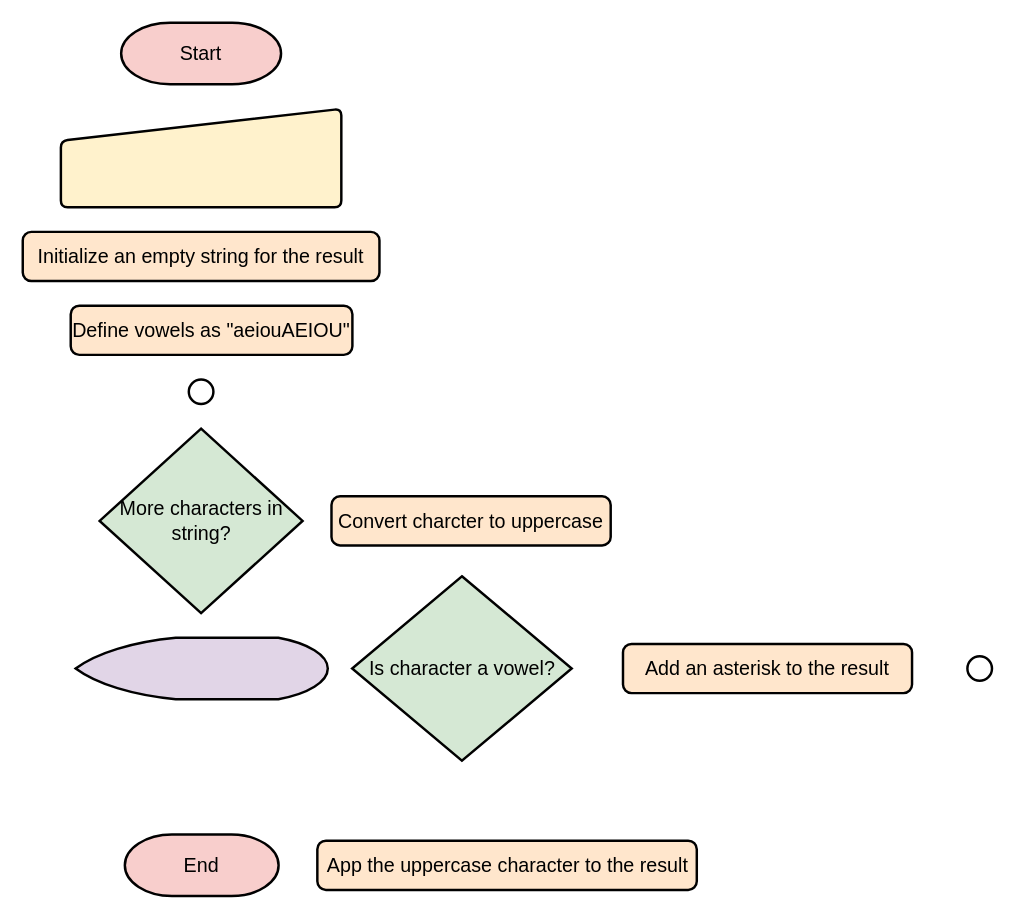
This 1014x918 diagram has some shape labels left out. Each missing label, with the centre of its shape:
Print the modified string: point 201,668
Read input string from the user: point 200,157
